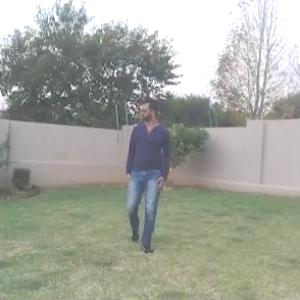follow: (123, 87, 172, 249)
